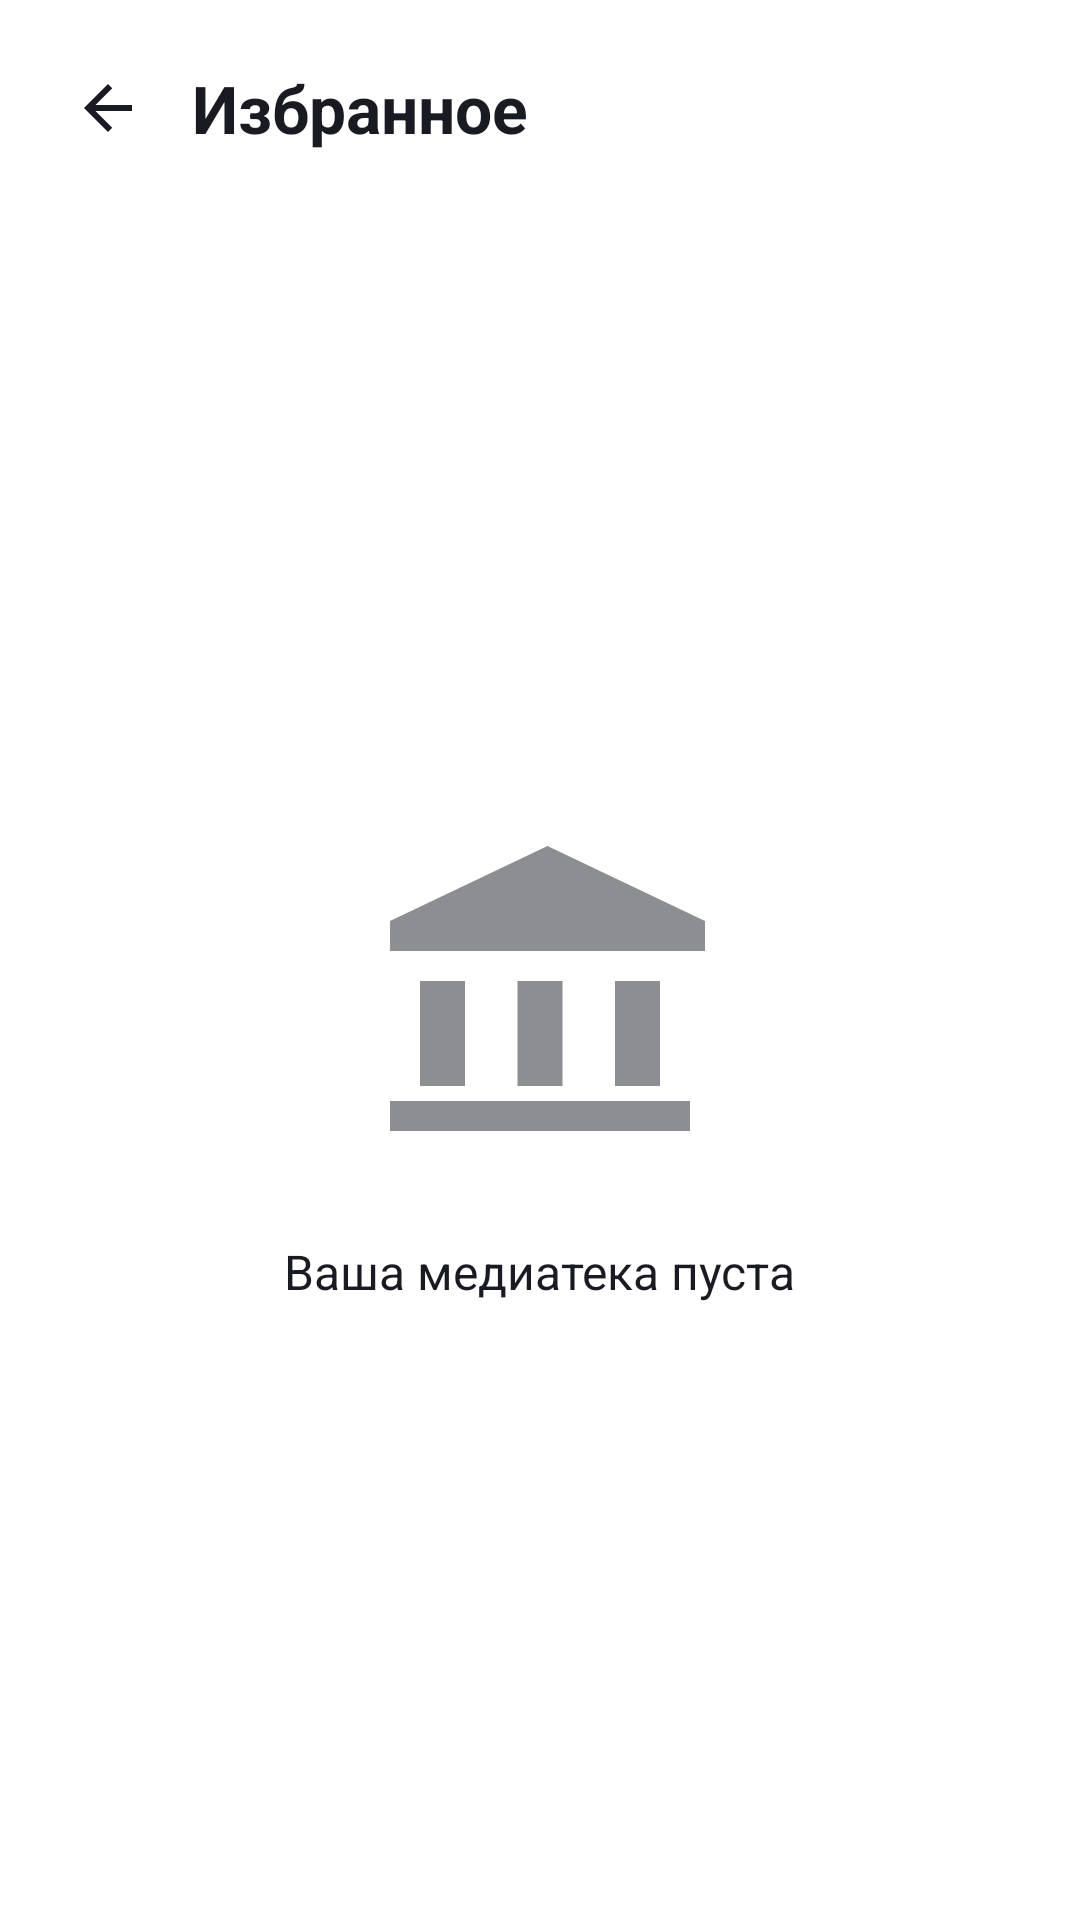

Where to tap for icons on this 1080 × 1920 app screen, as [x,y]:
Назад: [108,108]
